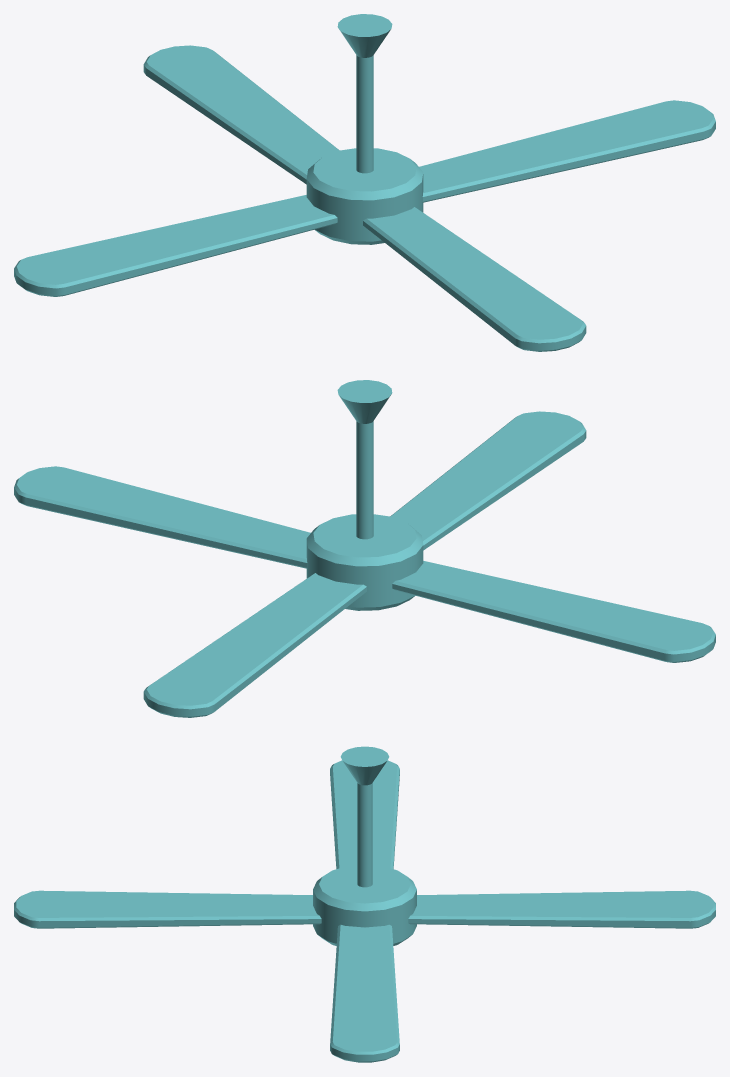
Rendered from quat_tran.fbx.
3 renders of one model, top to bottom at view 1: azimuth 30°, elevation 25°; view 2: azimuth 150°, elevation 25°; view 3: azimuth 270°, elevation 25°, orthographic. The views are drawn at different scales.
Parts seen in each view (by area): view 1: fan_Center; view 2: fan_Center; view 3: fan_Center.
Boxes of the visible parts, x1,y1,x2,y2 form: fan_Center: (14, 14, 715, 351); fan_Center: (14, 380, 715, 717); fan_Center: (14, 746, 715, 1062).
Size of the model in its own units: 708 by 205 by 708.
